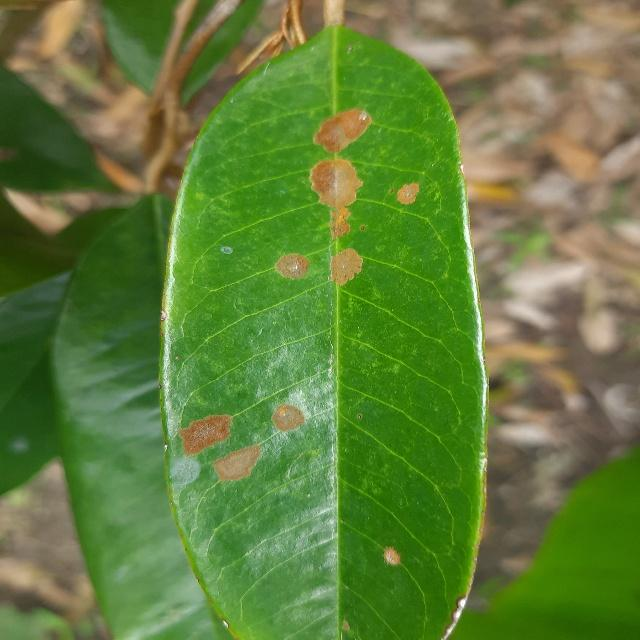Algal Leaf Spot: (151, 15, 499, 640)
